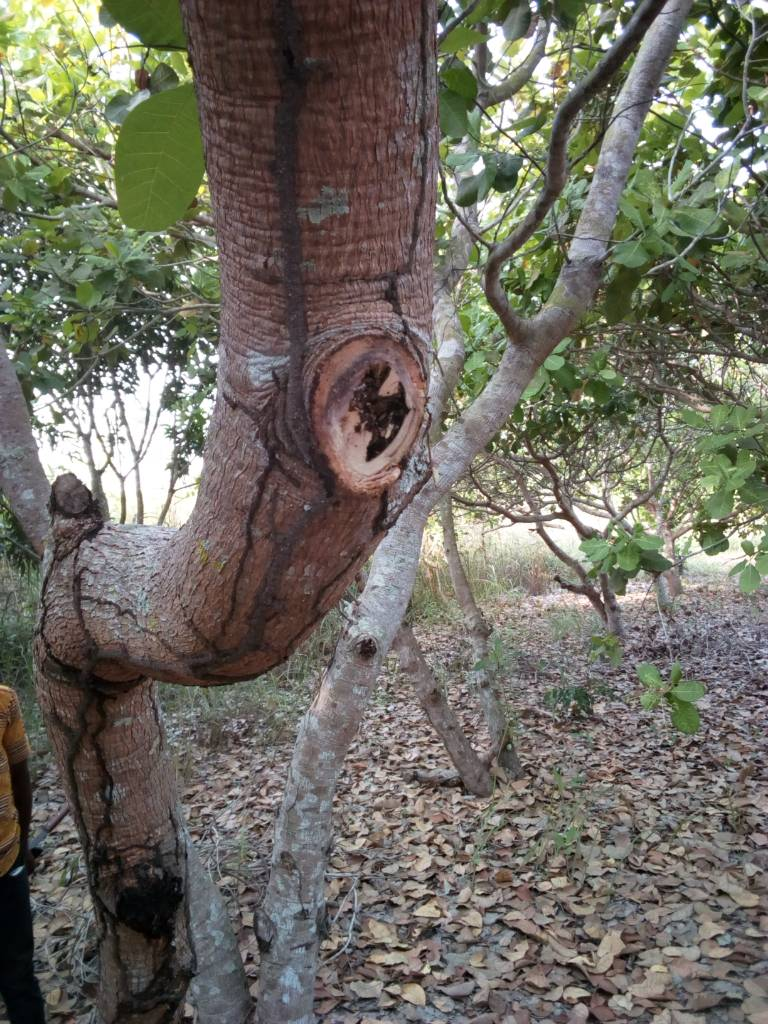Termites: (258, 5, 324, 480), (188, 497, 330, 682), (58, 661, 127, 857)
